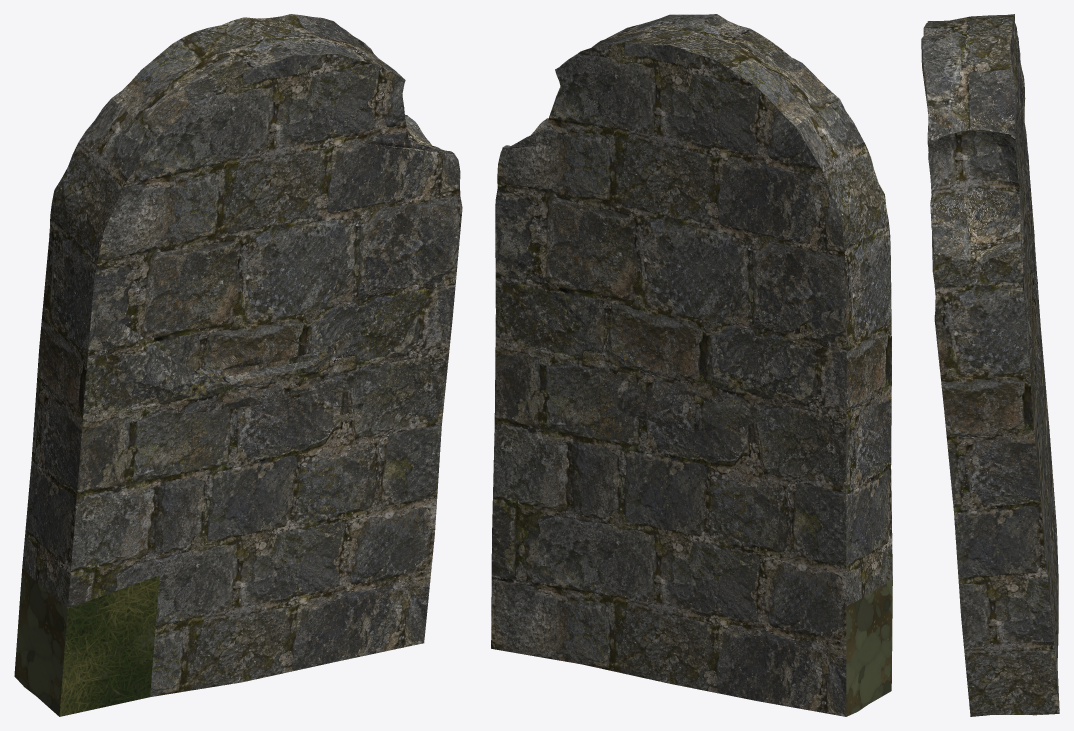
File: grave-marker-v02.glb
3 views of the same model, side by side, from view 1: azimuth 30°, elevation 25°; view 2: azimuth 150°, elevation 25°; view 3: azimuth 270°, elevation 25° (orthographic). The views are drawn at different scales.
Visible parts, largest first — view 1: grave-marker; view 2: grave-marker; view 3: grave-marker.
Boxes of the visible parts, box(x1,y1,x2,y2) form: grave-marker: box(14, 14, 462, 716); grave-marker: box(491, 14, 892, 716); grave-marker: box(921, 14, 1059, 716).
Bounding box in the file's own units: 0.9468 × 1.53 × 0.3148.
2 materials, 2 textured.
